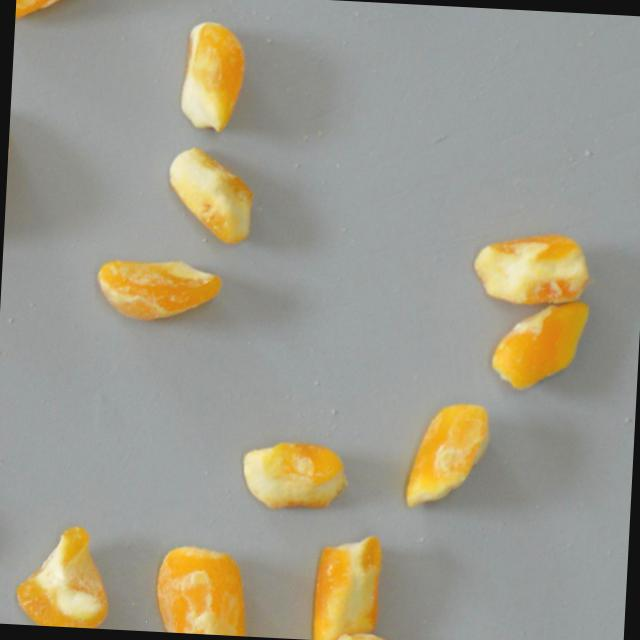dañado: (471, 228, 594, 308)
estandar: (311, 531, 386, 640)
pelicula: (400, 400, 494, 513), (16, 521, 113, 629), (490, 296, 590, 395), (95, 254, 225, 325), (155, 542, 252, 637), (166, 145, 258, 245), (242, 437, 352, 514), (178, 18, 250, 133), (15, 0, 72, 37)
